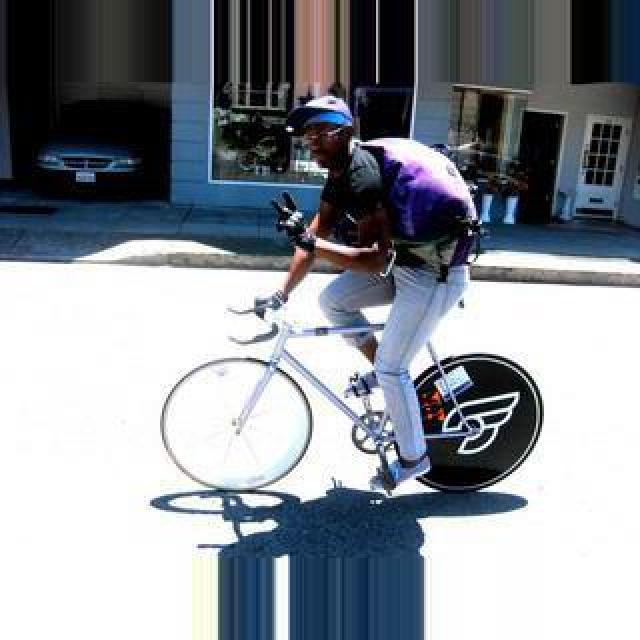MC-Bike: (244, 102, 488, 492)
Person: (161, 272, 573, 498)
